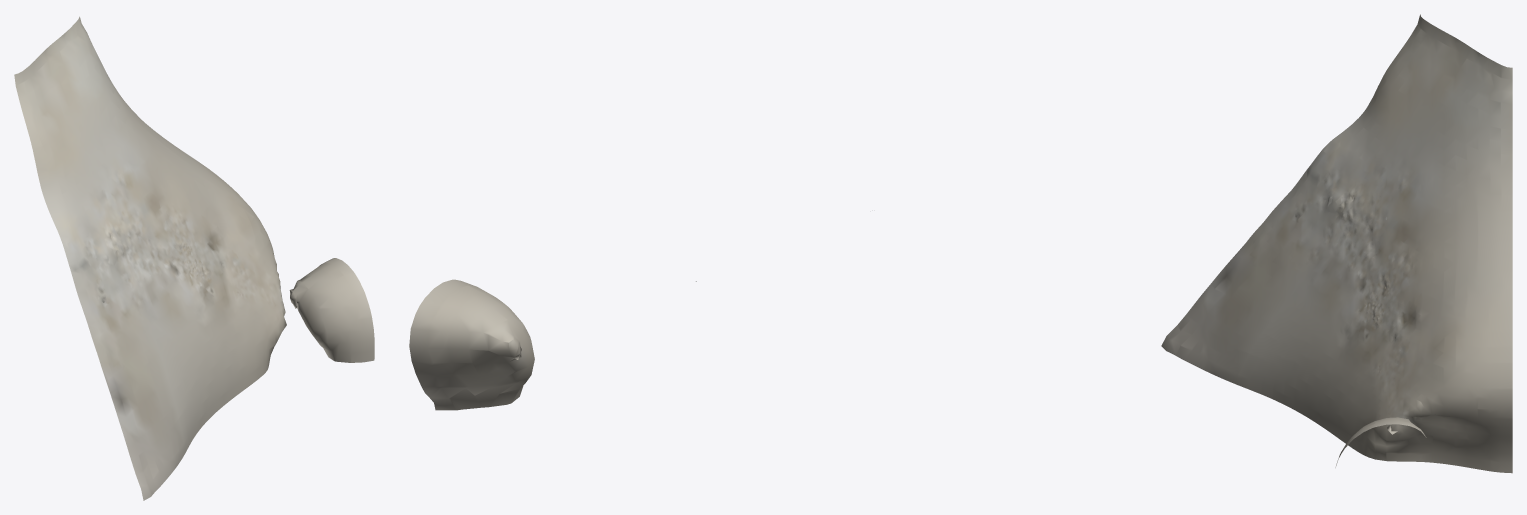
Rendered from model_ysd35c.glb.
The picture shows the model from 3 angles, left to right: view 1: azimuth 30°, elevation 25°; view 2: azimuth 150°, elevation 25°; view 3: azimuth 270°, elevation 25°; orthographic projection. The views are drawn at different scales.
Parts seen in each view (by area): view 1: model.obj; view 2: model.obj; view 3: model.obj.
Boxes of the visible parts, x1=… form: model.obj: x1=14, y1=16, x2=374, y2=500; model.obj: x1=409, y1=279, x2=696, y2=410; model.obj: x1=1161, y1=14, x2=1512, y2=473.
Size of the model in its own units: 6.2 by 6.2 by 5.94.
